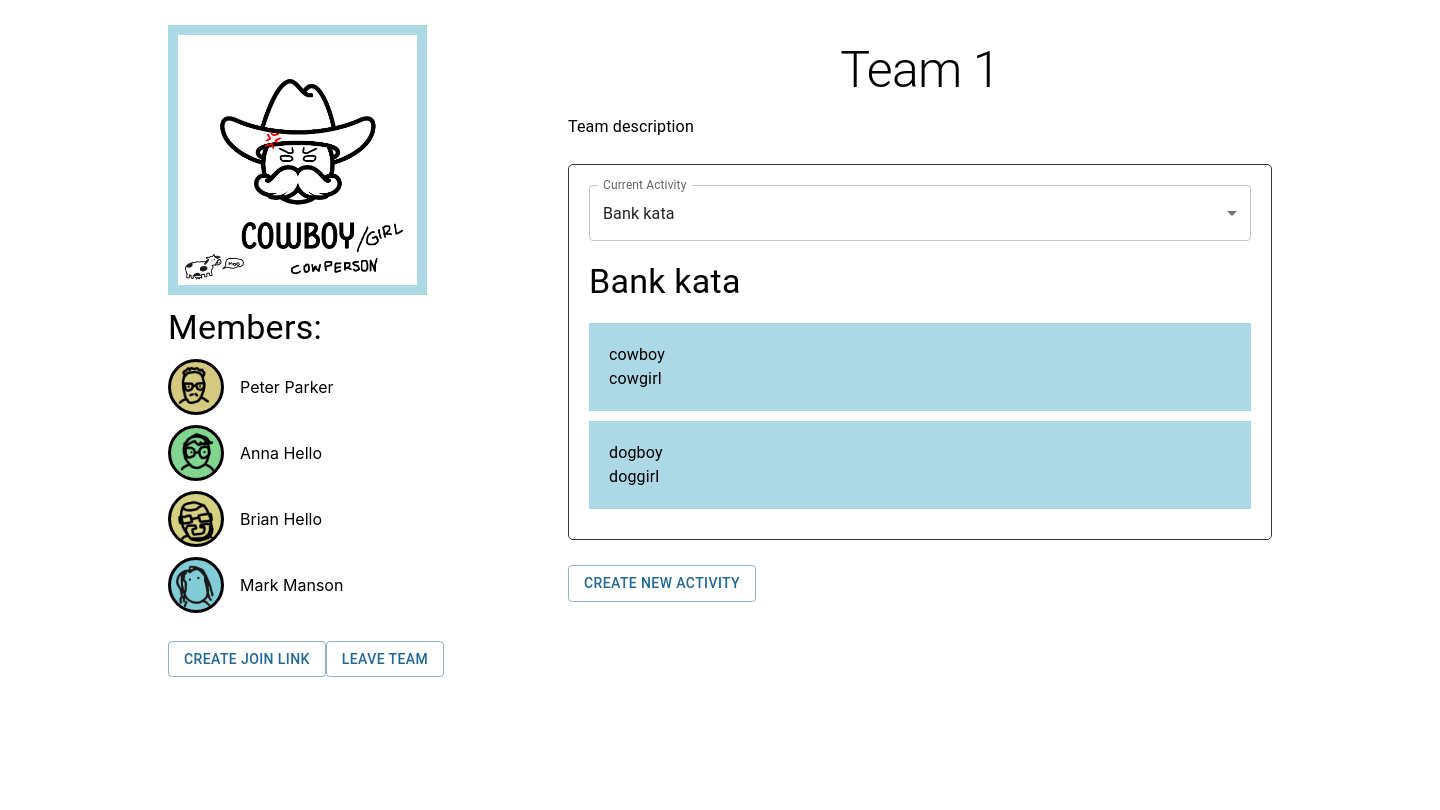
Scenario: Team page should › Team page activity display should › show list of users inside activity modal when create new activity
The width and height of the screenshot is (1440, 810).
Click the button "create new activity": (662,584) [568,565,756,602]
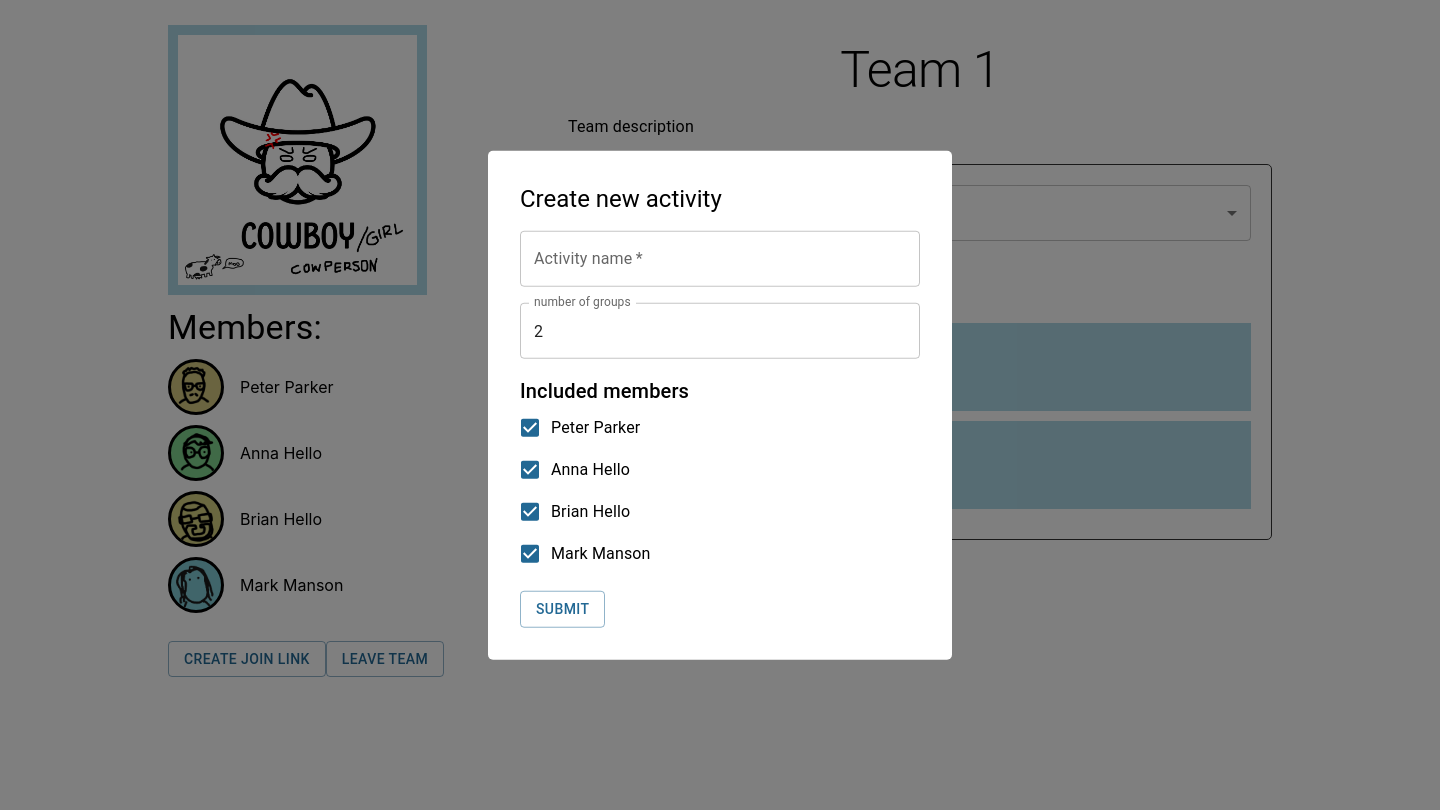
Now the number of elements with test id "user-checkbox" is 4, box [518,416,542,440]; [518,458,542,482]; [518,500,542,524]; [518,542,542,566]
